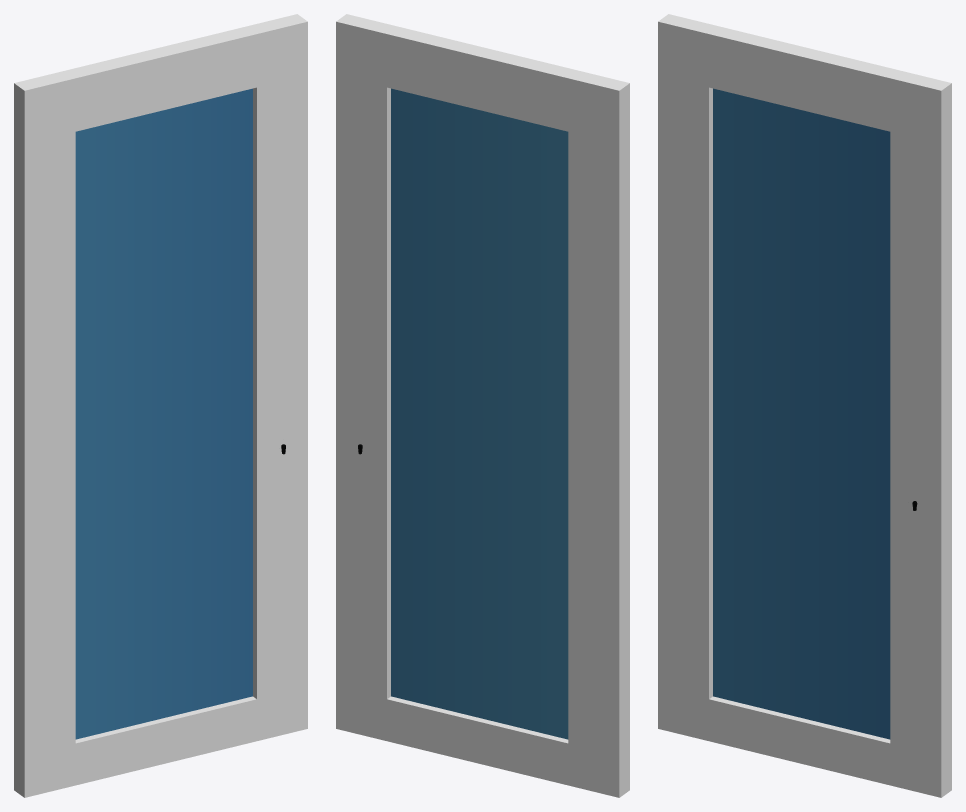
The model's file is Door04.fbx.
3 renders of one model, left to right at view 1: azimuth 30°, elevation 25°; view 2: azimuth 150°, elevation 25°; view 3: azimuth 330°, elevation 25°, orthographic.
Visible parts, largest first — view 1: Door04; view 2: Door04; view 3: Door04.
Part boxes in pixels (x1,y1,x2,y2): Door04: (14, 14, 307, 797); Door04: (336, 14, 629, 797); Door04: (658, 14, 951, 797).
Bounding box in the file's own units: 78 × 186 × 6.71.
